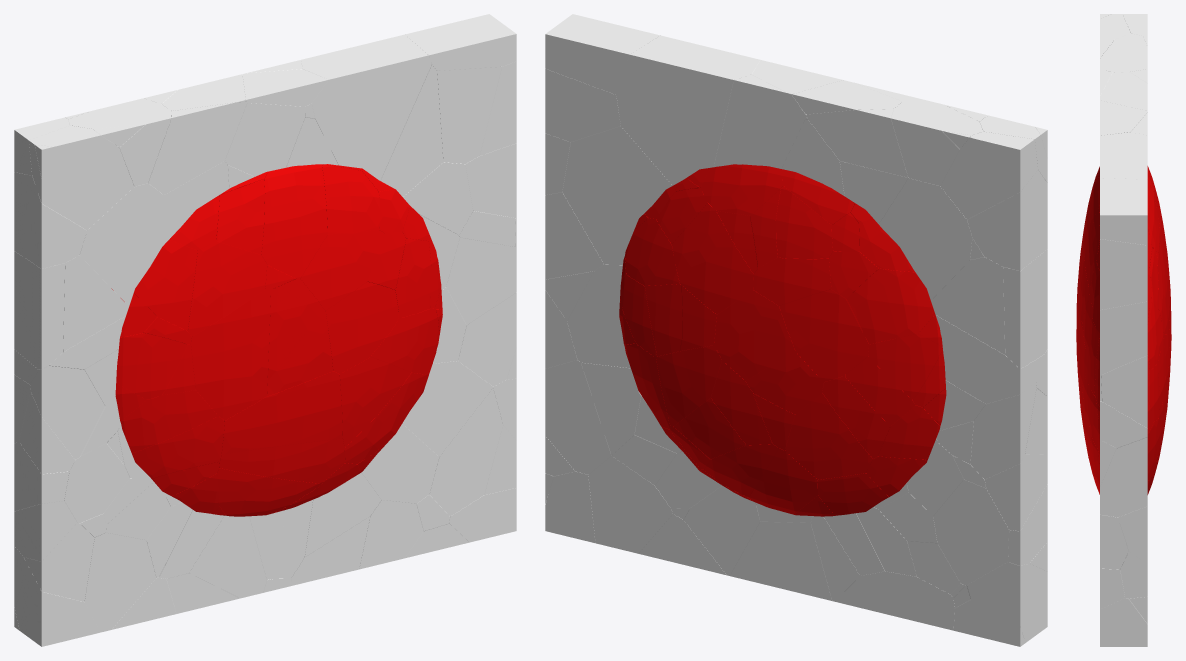
The model's file is SphereWall.fbx.
3 renders of one model, left to right at view 1: azimuth 30°, elevation 25°; view 2: azimuth 150°, elevation 25°; view 3: azimuth 270°, elevation 25°, orthographic. The views are drawn at different scales.
Visible parts, largest first — view 1: Cube_cell.037, Sphere_cell.009, Cube_cell.009, Cube_cell.001, Sphere_cell.096, Sphere_cell.034, Sphere_cell.057, Cube_cell.042, Cube_cell.053, Cube_cell.016, Cube_cell.014, Sphere_cell.011 (+71 smaller); view 2: Cube_cell.037, Cube_cell.006, Cube_cell.001, Cube_cell.051, Cube_cell.065, Cube_cell.049, Sphere_cell.015, Cube_cell.047, Cube_cell.045, Sphere_cell.087, Cube_cell.027, Cube_cell.074 (+71 smaller); view 3: Cube_cell.088, Cube_cell.045, Cube_cell.002, Cube_cell.022, Cube_cell.017, Cube_cell.037, Cube_cell.050, Cube_cell.076, Cube_cell.058, Cube_cell.048, Cube_cell.082, Cube_cell.025 (+34 smaller).
Boxes of the visible parts, left/top/right/bottom form: Cube_cell.037: left=300, top=34, right=431, bottom=180; Sphere_cell.009: left=190, top=290, right=270, bottom=420; Cube_cell.009: left=29, top=125, right=134, bottom=230; Cube_cell.001: left=79, top=183, right=174, bottom=306; Sphere_cell.096: left=221, top=371, right=342, bottom=454; Sphere_cell.034: left=261, top=164, right=327, bottom=278; Sphere_cell.057: left=267, top=278, right=333, bottom=396; Cube_cell.042: left=148, top=102, right=246, bottom=194; Cube_cell.053: left=429, top=388, right=502, bottom=516; Cube_cell.016: left=14, top=251, right=65, bottom=369; Cube_cell.014: left=84, top=532, right=156, bottom=632; Sphere_cell.011: left=188, top=241, right=267, bottom=336; Cube_cell.037: left=616, top=35, right=760, bottom=185; Cube_cell.006: left=562, top=126, right=672, bottom=264; Cube_cell.001: left=879, top=178, right=972, bottom=300; Cube_cell.051: left=714, top=74, right=805, bottom=168; Cube_cell.065: left=940, top=131, right=1037, bottom=219; Cube_cell.049: left=933, top=479, right=1009, bottom=585; Sphere_cell.015: left=671, top=203, right=753, bottom=314; Cube_cell.047: left=588, top=456, right=672, bottom=553; Cube_cell.045: left=545, top=14, right=660, bottom=94; Sphere_cell.087: left=779, top=289, right=873, bottom=381; Cube_cell.027: left=730, top=521, right=831, bottom=600; Cube_cell.074: left=545, top=360, right=611, bottom=474; Cube_cell.088: left=1100, top=239, right=1147, bottom=309; Cube_cell.045: left=1100, top=178, right=1147, bottom=245; Cube_cell.002: left=1100, top=437, right=1147, bottom=517; Cube_cell.022: left=1100, top=301, right=1147, bottom=374; Cube_cell.017: left=1101, top=355, right=1147, bottom=428; Cube_cell.037: left=1100, top=132, right=1147, bottom=179; Cube_cell.050: left=1100, top=598, right=1147, bottom=646; Cube_cell.076: left=1100, top=33, right=1147, bottom=72; Cube_cell.058: left=1100, top=401, right=1147, bottom=448; Cube_cell.048: left=1100, top=72, right=1147, bottom=110; Cube_cell.082: left=1100, top=514, right=1128, bottom=569; Cube_cell.025: left=1100, top=100, right=1147, bottom=135.
Size of the model in its own units: 10 by 10 by 2.
